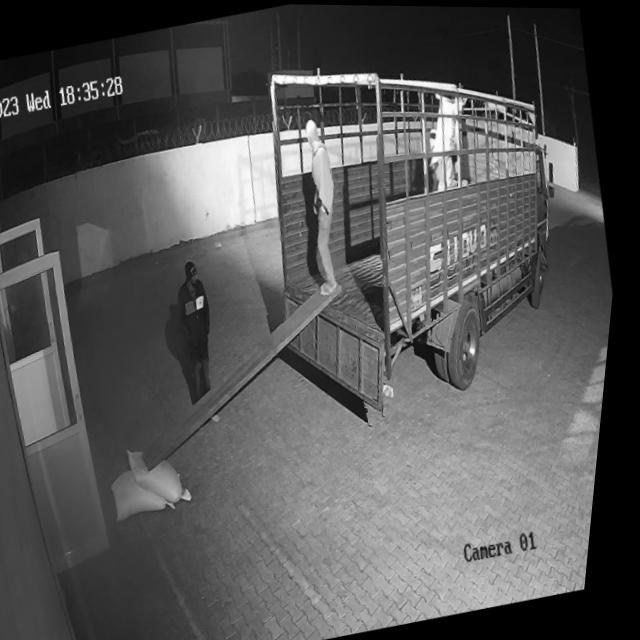sack: (129, 436, 204, 511), (419, 89, 479, 168), (117, 461, 189, 522)
